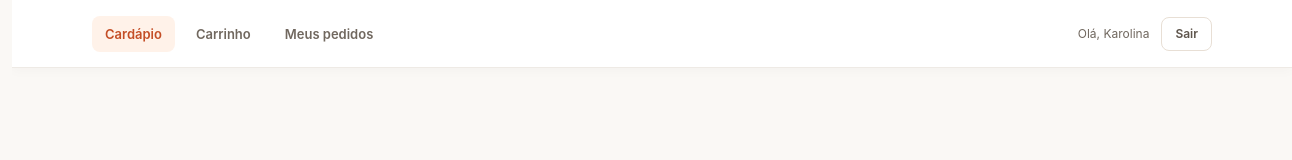
Navbar › Sair encerra a sessão e volta para o login
Click the button "Sair" at (1187, 34), box top-left (1161, 16), bottom-right (1212, 50)
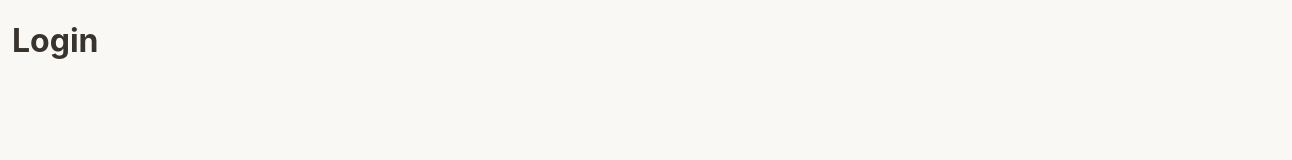
Check: the heading "Login" is shown, box top-left (12, 21), bottom-right (98, 60)
